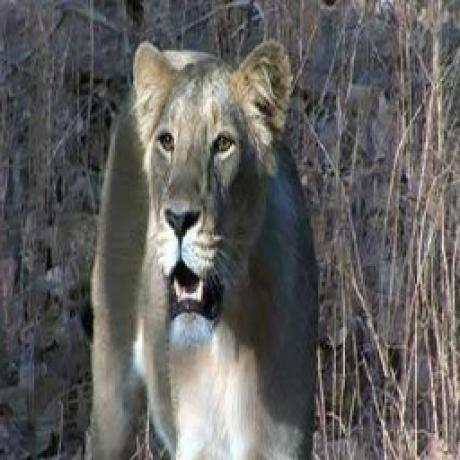Lion: (83, 33, 323, 460)
